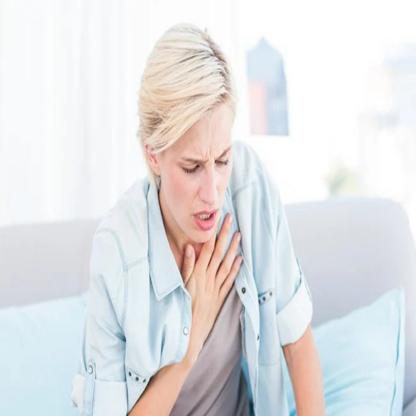pain: (172, 147, 237, 177)
